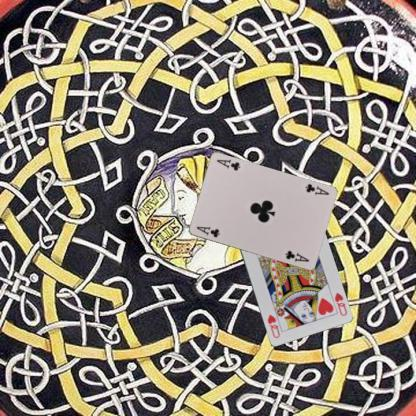Ac: (302, 182, 330, 196), (194, 224, 221, 238)
Qh: (332, 290, 348, 317)
